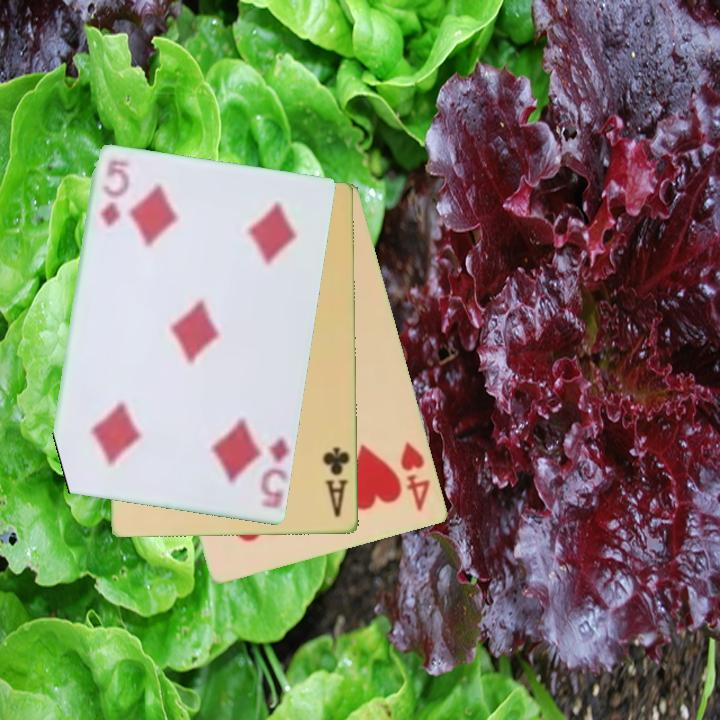4h: (397, 438, 434, 515)
5d: (257, 433, 292, 508), (97, 157, 128, 230)
Ac: (319, 444, 352, 521)
